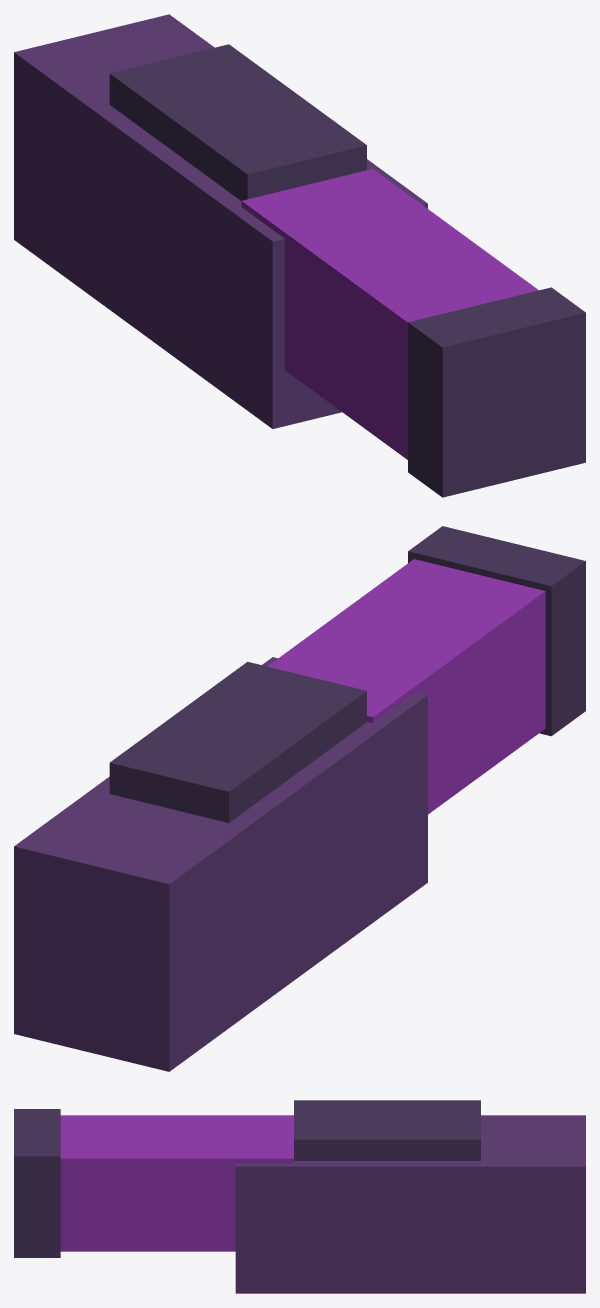
The picture shows the model from 3 angles, top to bottom: view 1: azimuth 30°, elevation 25°; view 2: azimuth 150°, elevation 25°; view 3: azimuth 270°, elevation 25°; orthographic projection. The views are drawn at different scales.
Bounding box in the file's own units: 0.26 × 0.35 × 1.22.
